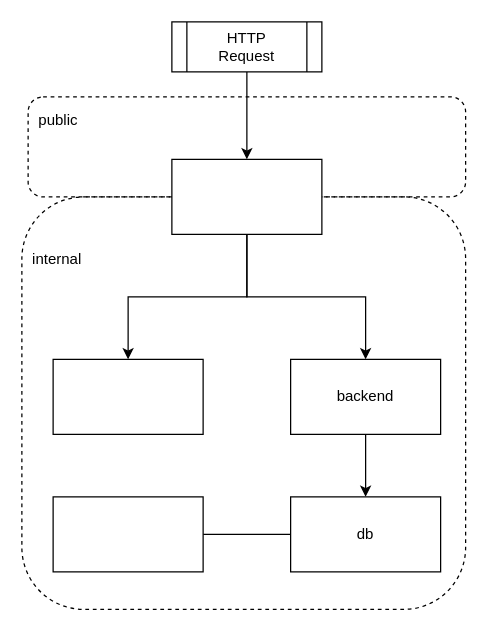
The diagram is 488 pixels wide and 631 high, and some of its shapes have lost their labels. The shapes that lost their labels are listed below. From the top down, each one's centre as x and y in pixels, then its label:
At [246,196]: "reverse-proxy".
At [127,396]: "frontend".
At [127,534]: "db-backup".
